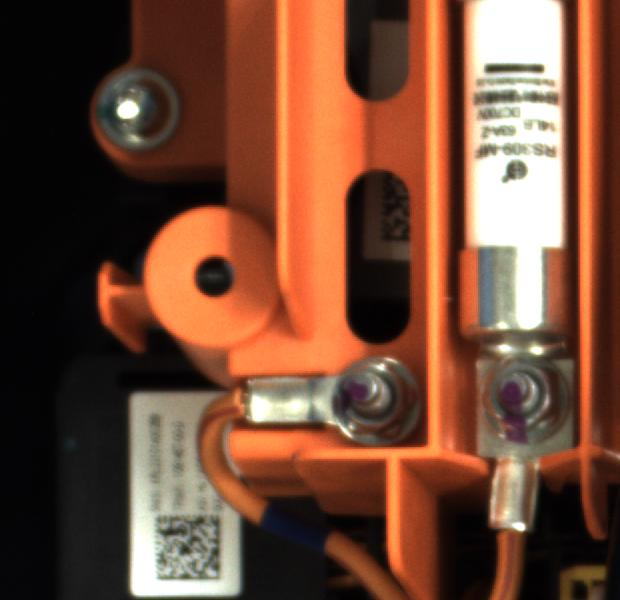screw_m: (85, 64, 192, 157)
screw_s: (478, 353, 579, 451), (336, 357, 422, 446)
